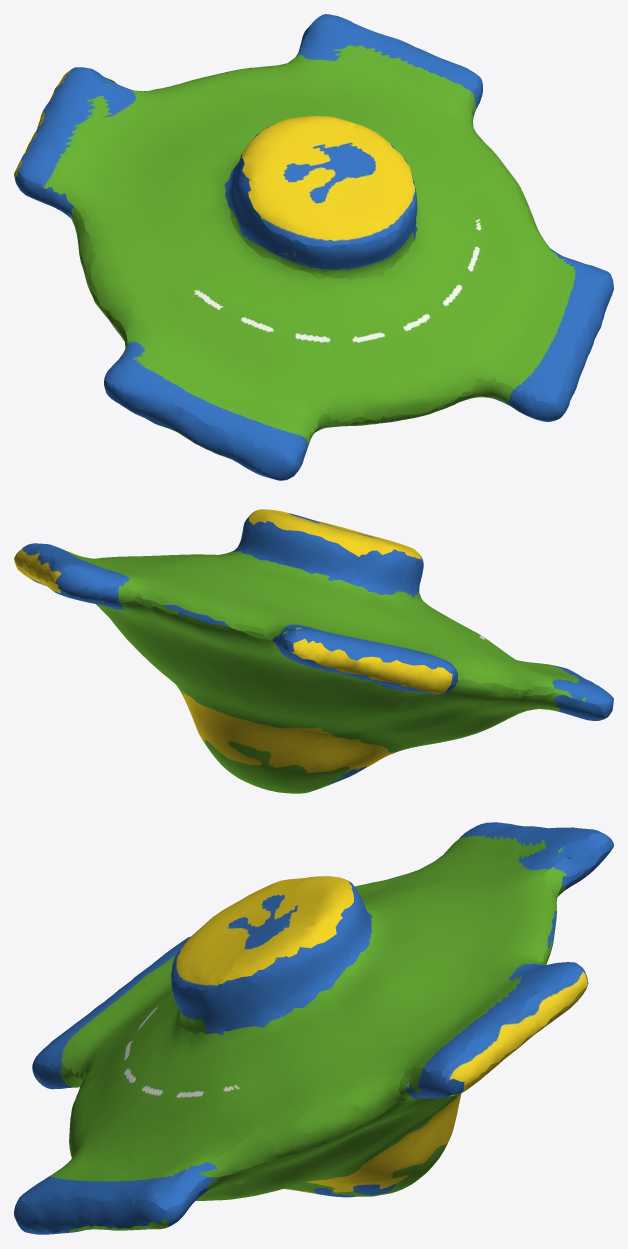
Rendered from roundabout.glb.
The picture shows the model from 3 angles, top to bottom: view 1: azimuth 30°, elevation 25°; view 2: azimuth 150°, elevation 25°; view 3: azimuth 270°, elevation 25°; orthographic projection. The views are drawn at different scales.
Visible parts, largest first — view 1: geometry_0; view 2: geometry_0; view 3: geometry_0.
Part boxes in pixels (x1,y1,x2,y2): geometry_0: [14, 14, 613, 480]; geometry_0: [14, 509, 613, 793]; geometry_0: [14, 822, 613, 1234].
Bounding box in the file's own units: 0.9671 × 0.4599 × 0.8842.
1 material, 1 textured.
